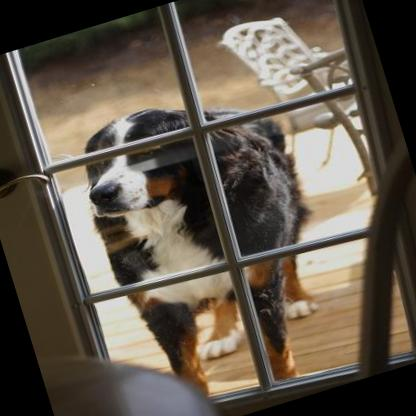Bernese_mountain_dog: (64, 70, 352, 416)
